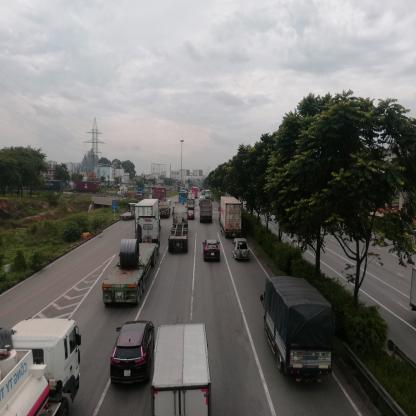car: (112, 320, 153, 386), (204, 241, 221, 263), (234, 239, 251, 259)
container: (103, 221, 161, 309), (172, 203, 189, 256), (222, 198, 242, 238), (134, 201, 161, 217), (71, 182, 101, 193), (149, 188, 169, 199), (120, 188, 136, 198)
truck: (2, 320, 79, 416), (265, 279, 332, 375), (155, 324, 209, 416), (201, 201, 214, 223)
